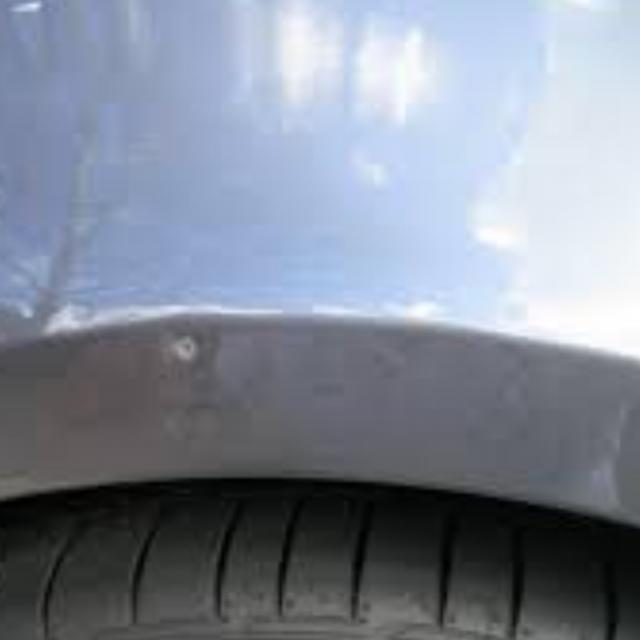dents: (10, 219, 139, 365), (162, 297, 246, 429)
